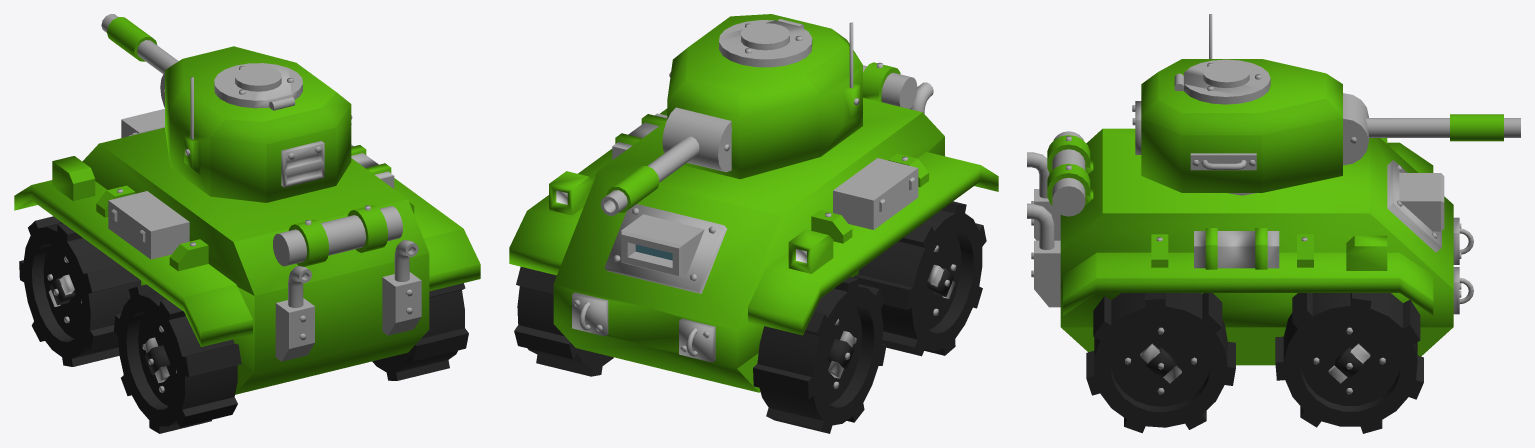
Rendered from tank.gltf.
3 views of the same model, side by side, from view 1: azimuth 30°, elevation 25°; view 2: azimuth 150°, elevation 25°; view 3: azimuth 270°, elevation 25° (orthographic). The views are drawn at different scales.
Parts seen in each view (by area): view 1: TankFree_Body, TankFree_Tower, TankFree_Wheel_b_left, TankFree_Wheel_f_left, TankFree_Wheel_b_right, TankFree_Canon; view 2: TankFree_Body, TankFree_Tower, TankFree_Wheel_f_left, TankFree_Wheel_b_left, TankFree_Wheel_f_right, TankFree_Canon; view 3: TankFree_Body, TankFree_Tower, TankFree_Wheel_b_right, TankFree_Wheel_f_right, TankFree_Canon.
Boxes of the visible parts, x1,y1,x2,y2 form: TankFree_Body: (14, 108, 480, 394); TankFree_Tower: (160, 46, 352, 202); TankFree_Wheel_b_left: (113, 284, 241, 433); TankFree_Wheel_f_left: (19, 216, 141, 366); TankFree_Wheel_b_right: (372, 283, 468, 380); TankFree_Canon: (101, 14, 178, 74); TankFree_Body: (509, 62, 998, 392); TankFree_Tower: (662, 14, 862, 179); TankFree_Wheel_f_left: (753, 276, 886, 433); TankFree_Wheel_b_left: (854, 201, 986, 356); TankFree_Wheel_f_right: (514, 267, 613, 376); TankFree_Canon: (600, 136, 699, 215); TankFree_Body: (1027, 128, 1473, 365); TankFree_Tower: (1132, 14, 1368, 195); TankFree_Wheel_b_right: (1086, 293, 1235, 433); TankFree_Wheel_f_right: (1275, 293, 1423, 433); TankFree_Canon: (1366, 114, 1520, 141).
Bounding box in the file's own units: 1.27 × 1.36 × 1.93.
1 material, 1 textured.
